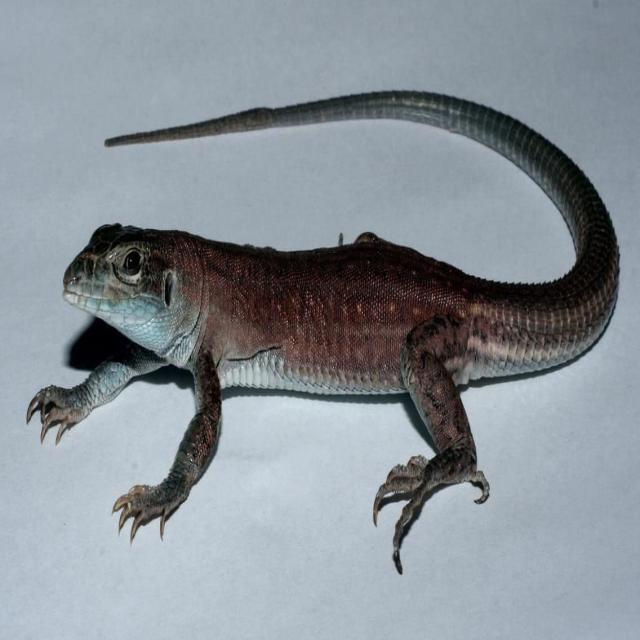Lizard: (27, 75, 620, 541)
